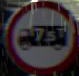Heavy Vehicles: (5, 0, 78, 71)
